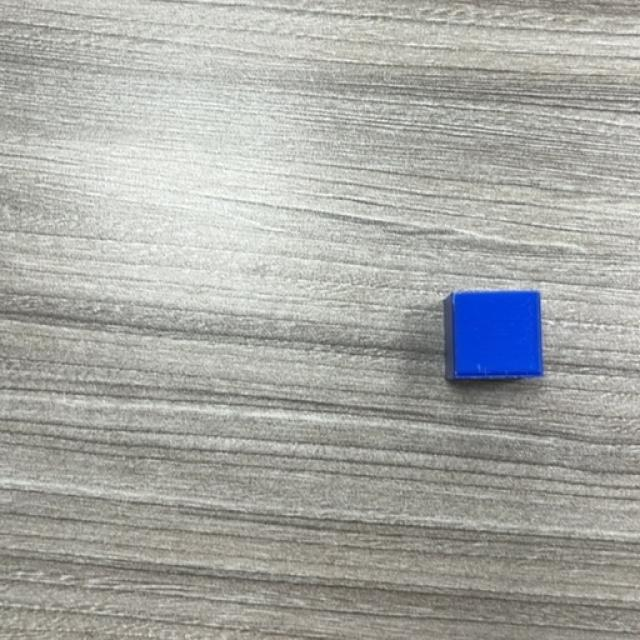Azul: (442, 290, 546, 384)
